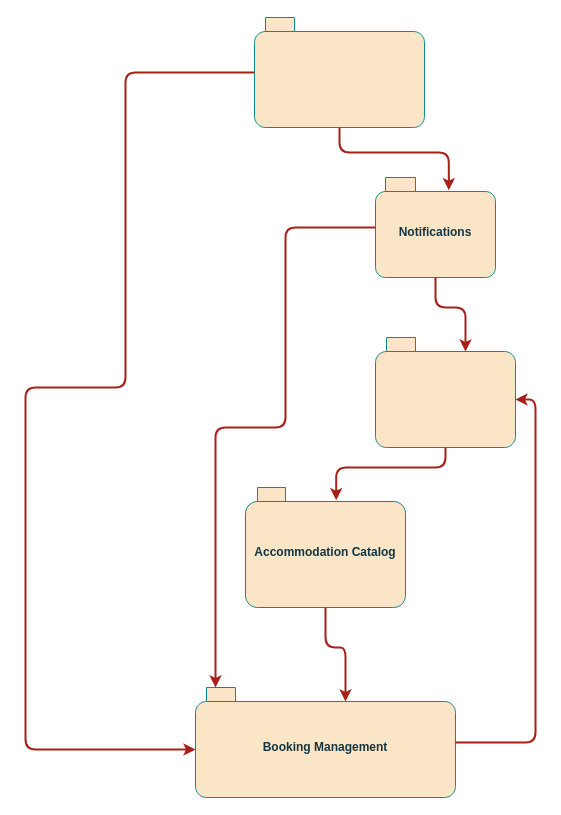
This 561x815 diagram has some shape labels left out. Here are the shapes that lost their labels. From the top down, the centre of each, then its label:
pixel 339 72: Payment Processing
pixel 445 392: User Management
